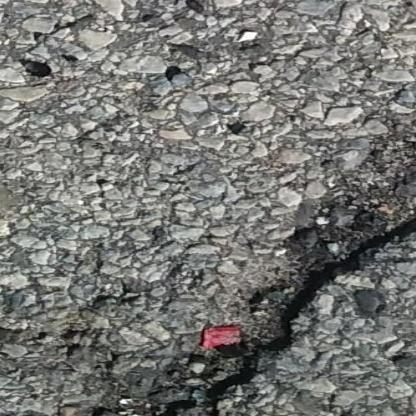Cracks: (116, 107, 416, 416)
